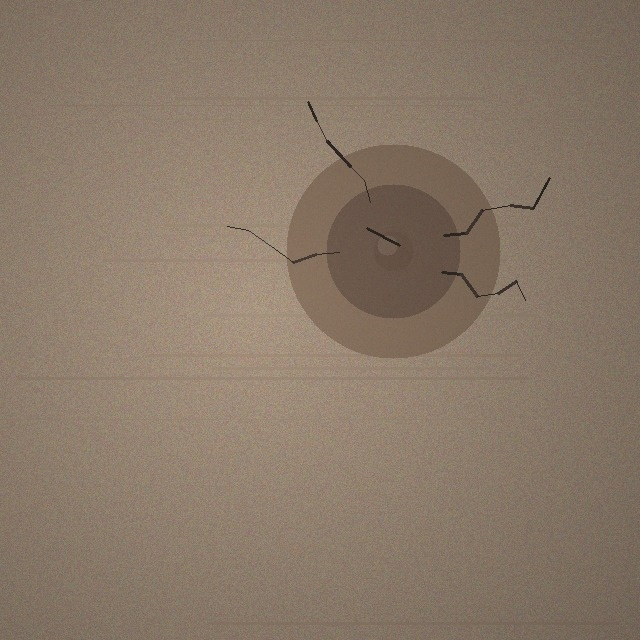crack: (286, 144, 500, 358)
